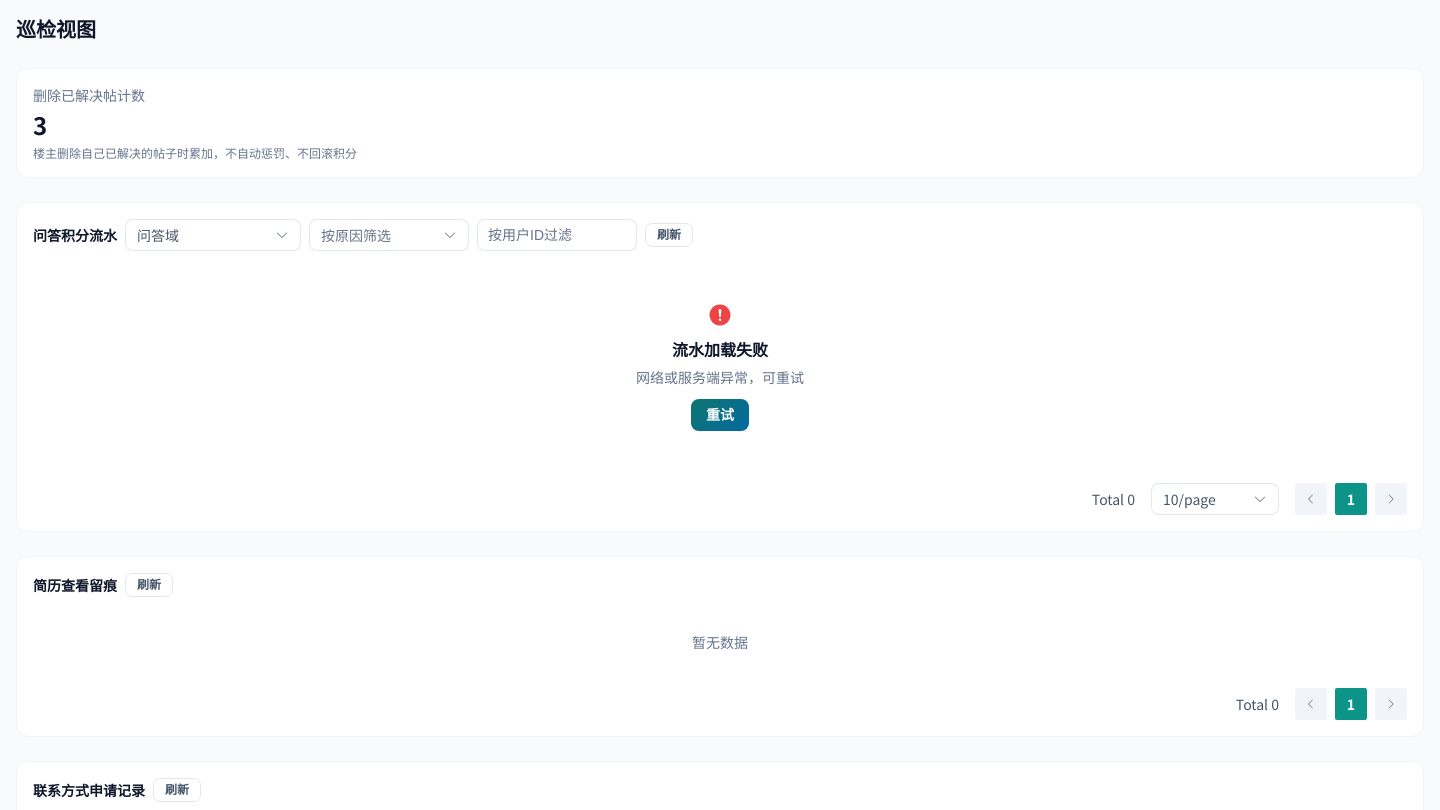
Inspection 两档归属（#1102） › 档位一（分页列表 → useAdminTable）：流水装载失败出错误态，点重试后重装列表
Click the button "重试".
click(720, 415)  # box [691,399,749,431]
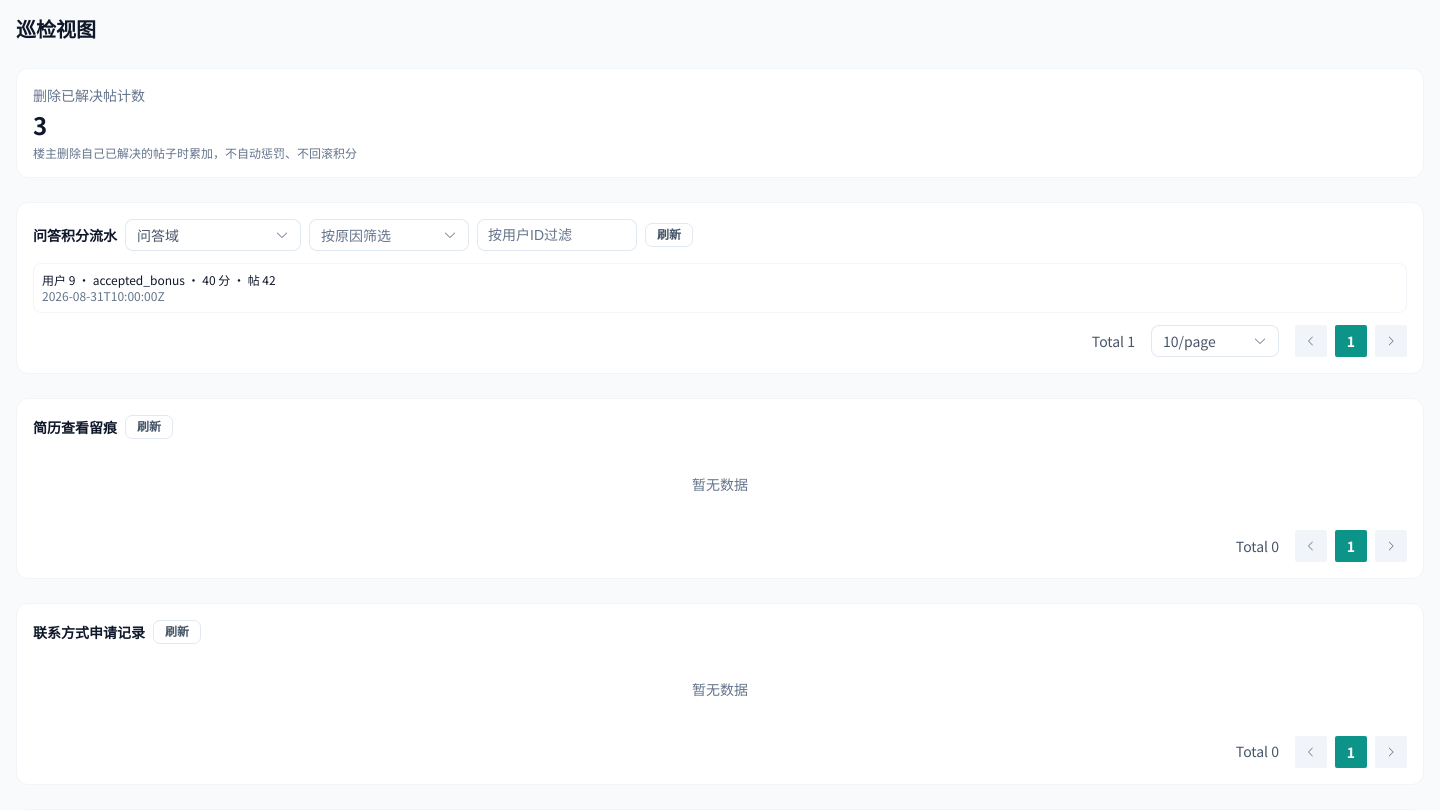
Expected: the text "流水加载失败" is gone
Expected: the text "帖 42" is shown, [42,271,276,288]
